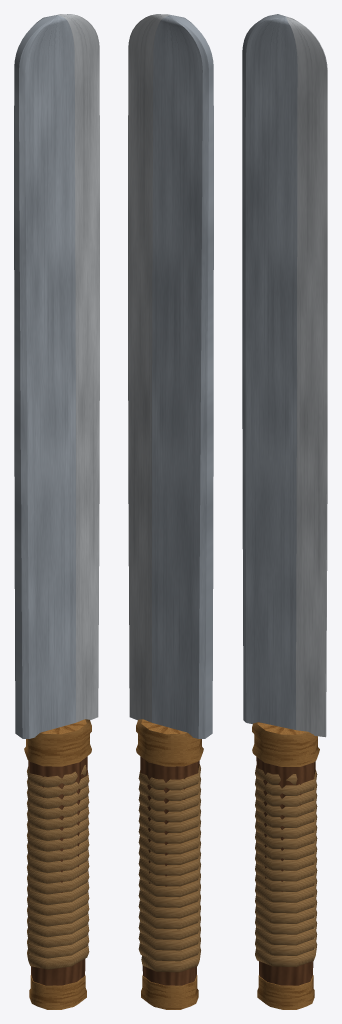
File: thai-sword-08.glb
3 renders of one model, left to right at view 1: azimuth 30°, elevation 25°; view 2: azimuth 150°, elevation 25°; view 3: azimuth 330°, elevation 25°, orthographic.
Parts seen in each view (by area): view 1: Blade, Handle Wrap, Metal Fittings, Handle; view 2: Blade, Handle Wrap, Metal Fittings, Handle; view 3: Blade, Handle Wrap, Metal Fittings, Handle.
Part boxes in pixels (box(x1,y1,x2,y2)): Blade: box(14, 14, 99, 738); Handle Wrap: box(27, 765, 89, 969); Metal Fittings: box(24, 719, 91, 1009); Handle: box(28, 756, 87, 985); Blade: box(128, 14, 213, 738); Handle Wrap: box(138, 764, 200, 972); Metal Fittings: box(136, 719, 203, 1009); Handle: box(140, 756, 199, 985); Blade: box(242, 14, 327, 737); Handle Wrap: box(255, 765, 317, 967); Metal Fittings: box(252, 722, 319, 1009); Handle: box(256, 757, 315, 985).
Size of the model in its own units: 0.104 by 1.18 by 0.0627.
Materials: 5 (5 with a texture image).
